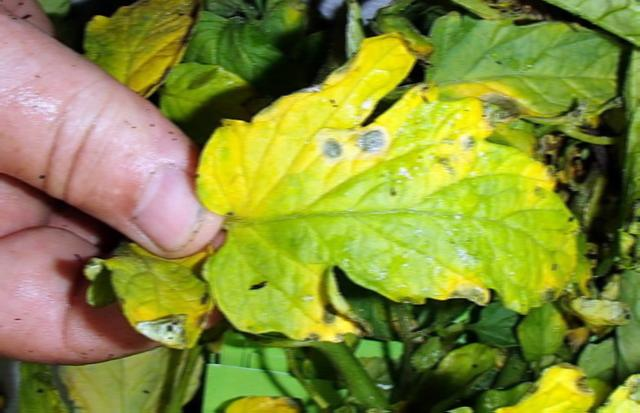Tomato Early blight leaf: (200, 40, 590, 356)
